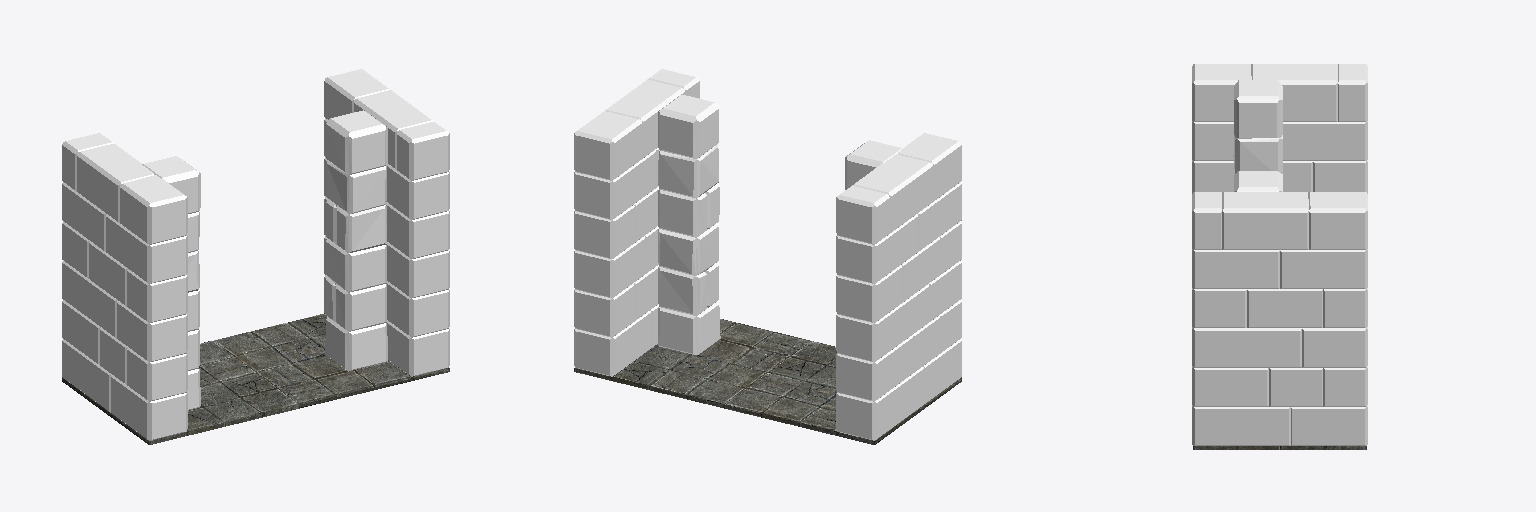
3 views of the same model, side by side, from view 1: azimuth 30°, elevation 25°; view 2: azimuth 150°, elevation 25°; view 3: azimuth 270°, elevation 25° (orthographic).
Parts seen in each view (by area): view 1: Box3456, Box3455, Box4114, Box026, Box0020, Box4132; view 2: Box3456, Box3455, Box4114, Box026, Box0020, Box4132; view 3: Box3455, Box3456, Box4132, Box4114, Box026.
Part boxes in pixels (bbox=[...]): Box3456: bbox=[62, 133, 187, 440]; Box3455: bbox=[324, 69, 449, 376]; Box4114: bbox=[325, 110, 387, 371]; Box026: bbox=[214, 313, 449, 407]; Box0020: bbox=[62, 341, 299, 444]; Box4132: bbox=[142, 156, 200, 410]; Box3456: bbox=[836, 133, 961, 440]; Box3455: bbox=[574, 69, 699, 376]; Box4114: bbox=[658, 95, 720, 354]; Box026: bbox=[574, 319, 809, 407]; Box0020: bbox=[724, 341, 961, 444]; Box4132: bbox=[845, 140, 902, 189]; Box3455: bbox=[1192, 192, 1367, 445]; Box3456: bbox=[1192, 64, 1367, 193]; Box4132: bbox=[1233, 80, 1282, 175]; Box4114: bbox=[1234, 171, 1282, 191]; Box026: bbox=[1193, 446, 1366, 449].
Bounding box in the file's own units: 4.04 × 3.08 × 2.04.
2 materials, 1 textured.